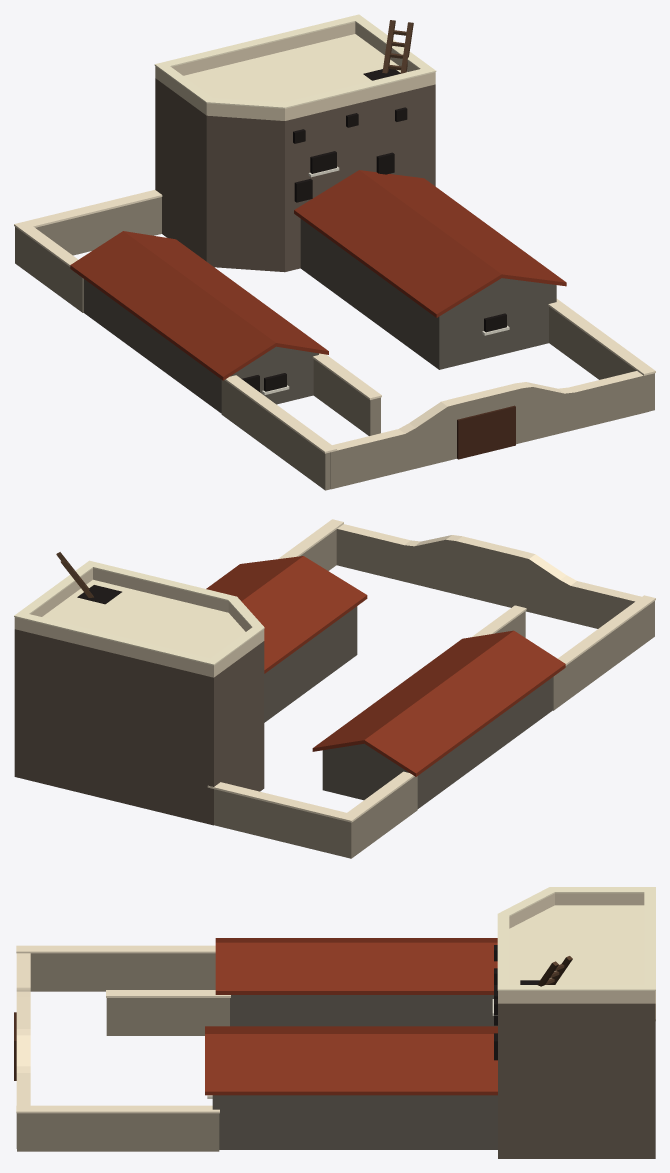
Rendered from VerBuild03.glb.
3 views of the same model, one above another, from view 1: azimuth 30°, elevation 25°; view 2: azimuth 150°, elevation 25°; view 3: azimuth 270°, elevation 25° (orthographic). The views are drawn at different scales.
Parts seen in each view (by area): view 1: VerBuild03_roof; view 2: VerBuild03_roof; view 3: VerBuild03_roof.
Part boxes in pixels (left/top/right/bottom): VerBuild03_roof: left=14, top=14, right=655, bottom=490; VerBuild03_roof: left=14, top=519, right=655, bottom=858; VerBuild03_roof: left=14, top=887, right=655, bottom=1158.
Bounding box in the file's own units: 10.04 × 5.19 × 15.26.
